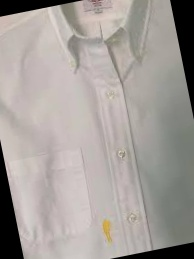mustard: (100, 214, 119, 241)
